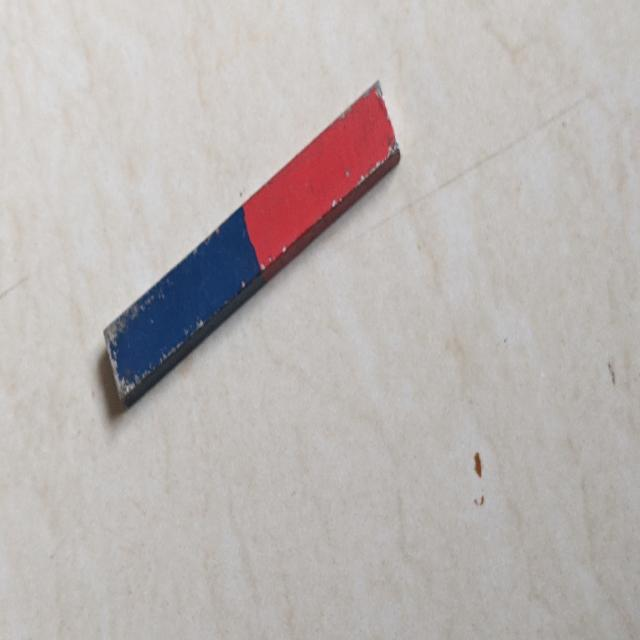Magnet: (61, 80, 422, 403)
